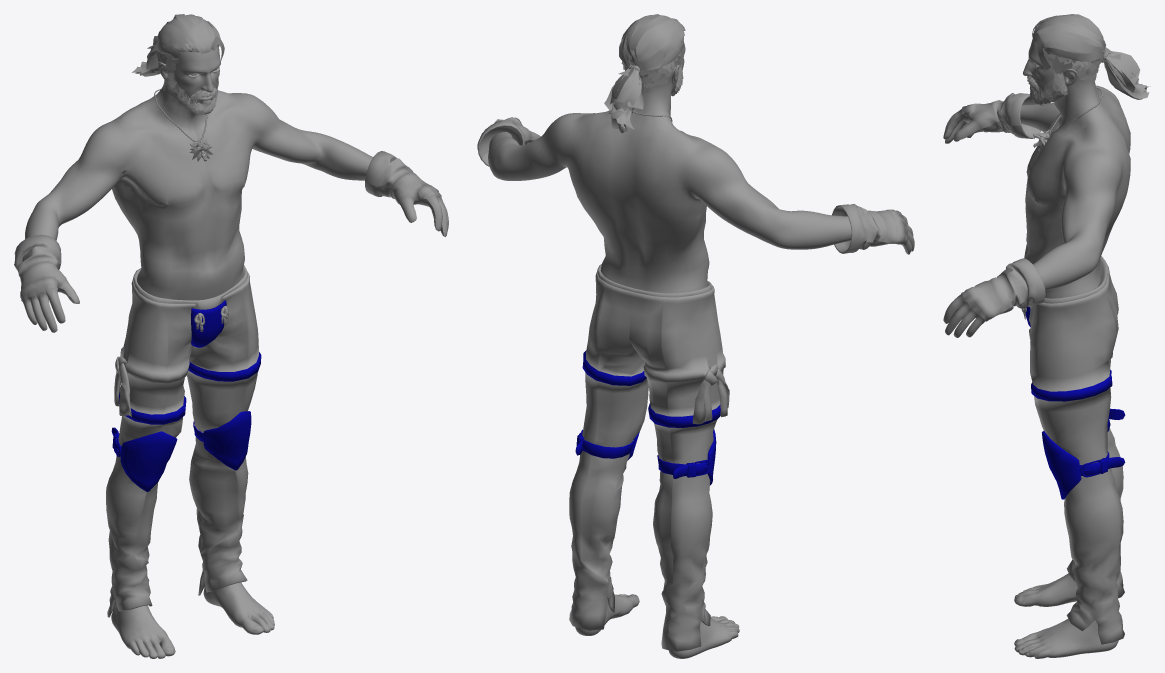
The model's file is geralt_02.obj.
The picture shows the model from 3 angles, left to right: view 1: azimuth 30°, elevation 25°; view 2: azimuth 150°, elevation 25°; view 3: azimuth 270°, elevation 25°; orthographic projection.
Visible parts, largest first — view 1: grp004, grp015, grp003, grp021, grp026, grp031, grp025; view 2: grp004, grp015, grp003, grp031, grp021, grp033, grp026, grp030; view 3: grp004, grp015, grp003, grp021, grp031, grp026, grp033, grp025, grp030, grp034.
Part boxes in pixels (left/top/right/bottom): grp004: left=106, top=265, right=261, bottom=617; grp015: left=25, top=90, right=373, bottom=300; grp003: left=14, top=151, right=448, bottom=332; grp021: left=111, top=582, right=274, bottom=658; grp026: left=155, top=46, right=220, bottom=127; grp031: left=157, top=14, right=220, bottom=58; grp025: left=167, top=72, right=218, bottom=114; grp004: left=569, top=264, right=729, bottom=651; grp015: left=488, top=110, right=851, bottom=293; grp003: left=477, top=117, right=914, bottom=254; grp031: left=618, top=14, right=685, bottom=77; grp021: left=575, top=594, right=739, bottom=658; grp033: left=604, top=64, right=643, bottom=133; grp026: left=631, top=43, right=685, bottom=118; grp030: left=621, top=48, right=683, bottom=92; grp004: left=1021, top=256, right=1125, bottom=644; grp015: left=1020, top=85, right=1130, bottom=298; grp003: left=943, top=93, right=1045, bottom=337; grp021: left=1014, top=573, right=1118, bottom=658; grp031: left=1032, top=14, right=1120, bottom=65; grp026: left=1023, top=39, right=1101, bottom=124; grp033: left=1103, top=47, right=1150, bottom=99; grp025: left=1027, top=72, right=1068, bottom=105; grp030: left=1047, top=54, right=1099, bottom=82; grp034: left=1033, top=88, right=1102, bottom=150.
Bounding box in the file's own units: 1.38 × 1.92 × 0.5917.
